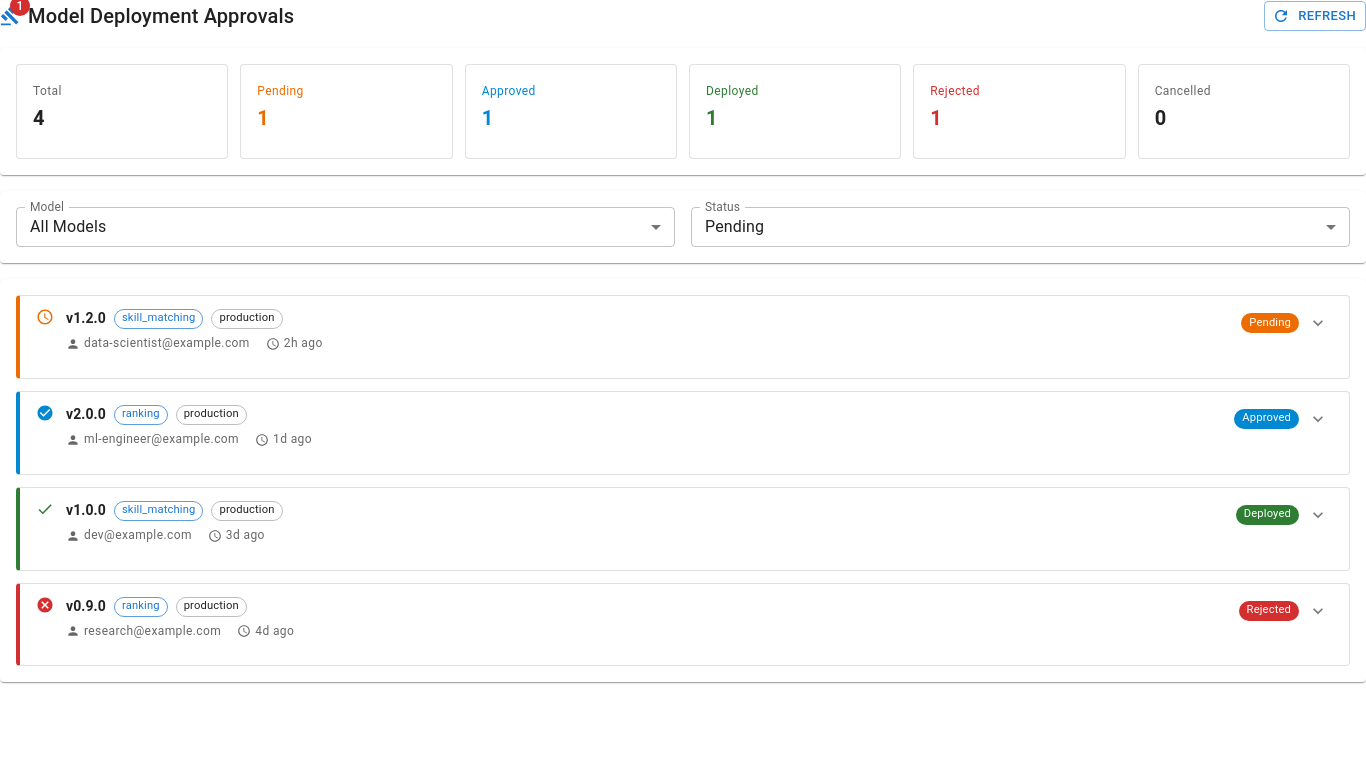
Test: ModelApprovalPanel › Reject Action › opens reject dialog when reject button is clicked
The width and height of the screenshot is (1366, 768).
Expected: the heading "v1.2.0" is shown, [66,308,106,330]
Step 1. Click the button without text in the row of "2h ago" → [1318, 323], box [1303,308,1333,338]
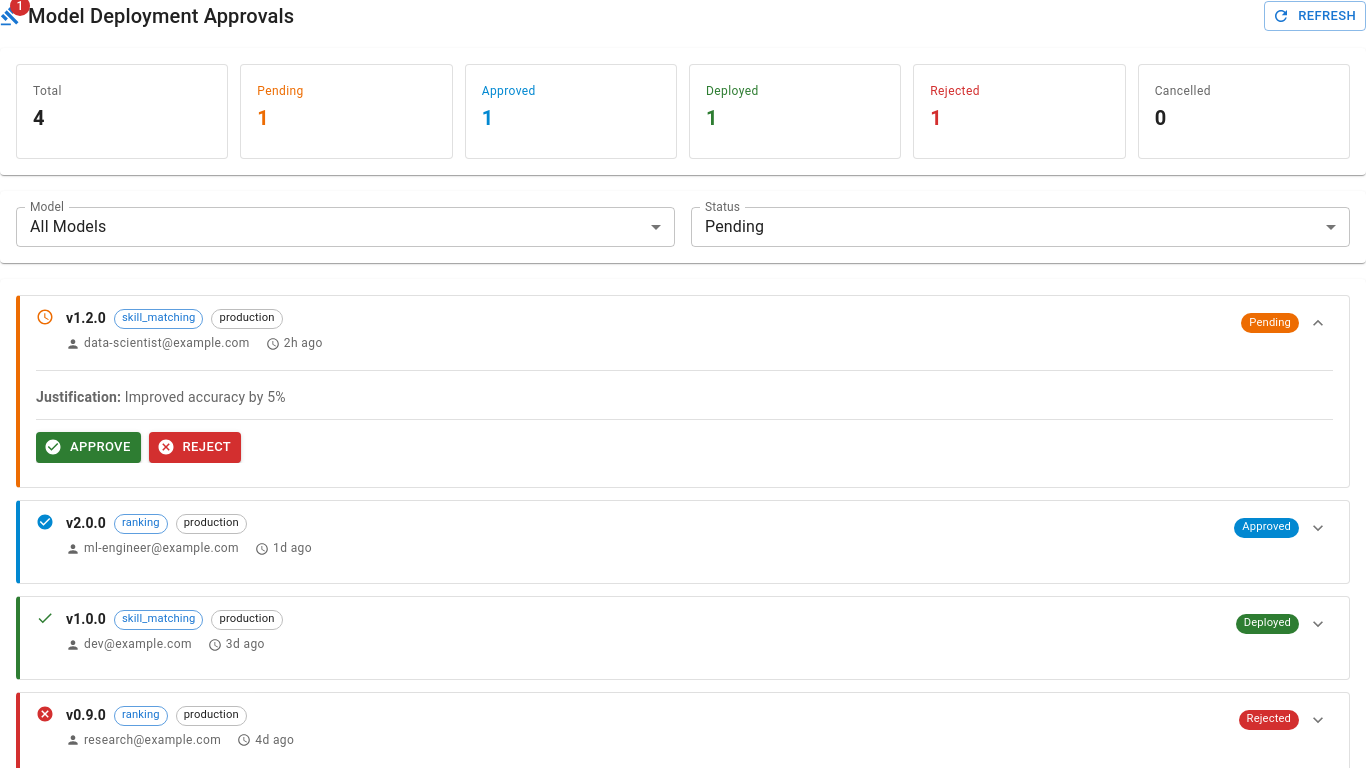
Expected: the button "Reject" is shown
Note: Click reject button
Step 2. Click the button "Reject" → [195, 447], box [149,432,241,463]
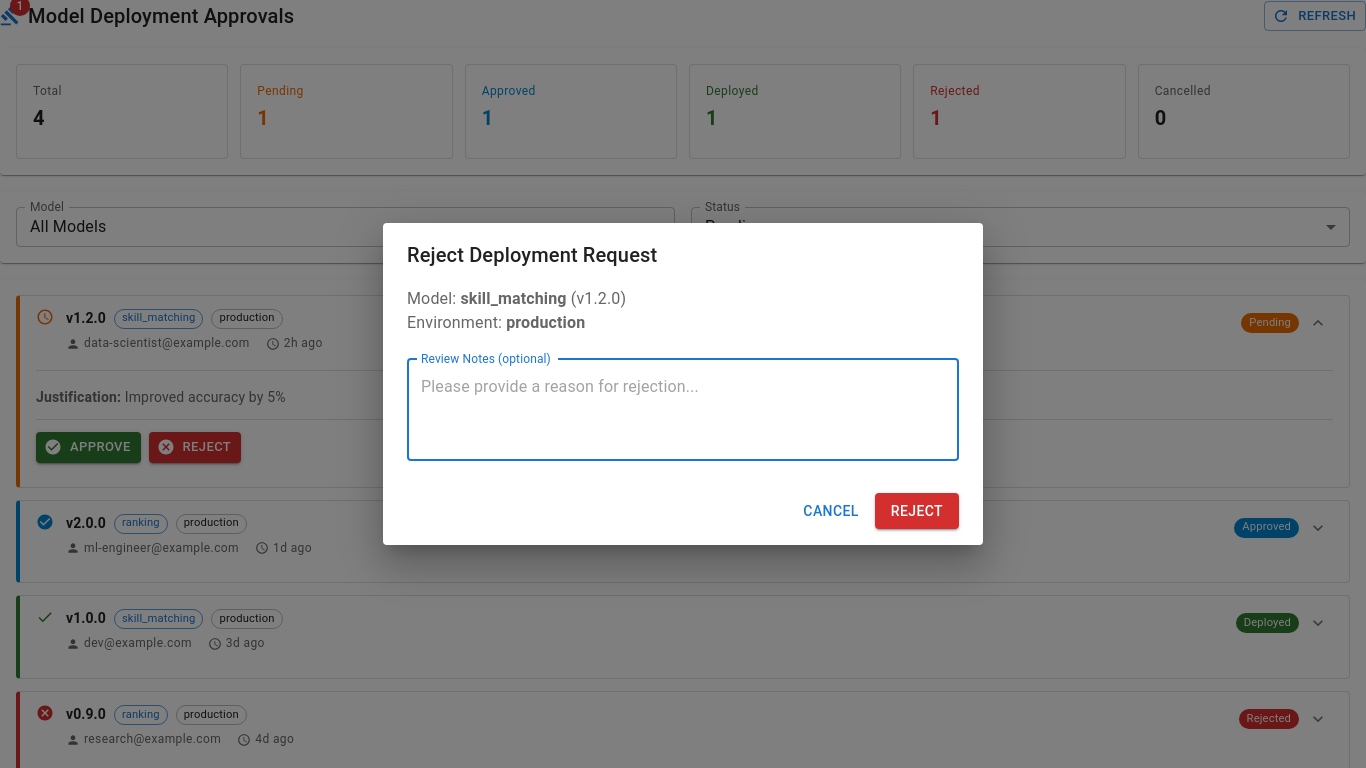
Expected: the heading "Reject Deployment Request" is shown, [407,243,657,267]
